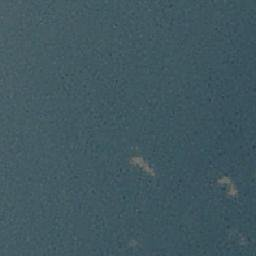debris: (128, 158, 154, 175), (218, 176, 236, 194)
